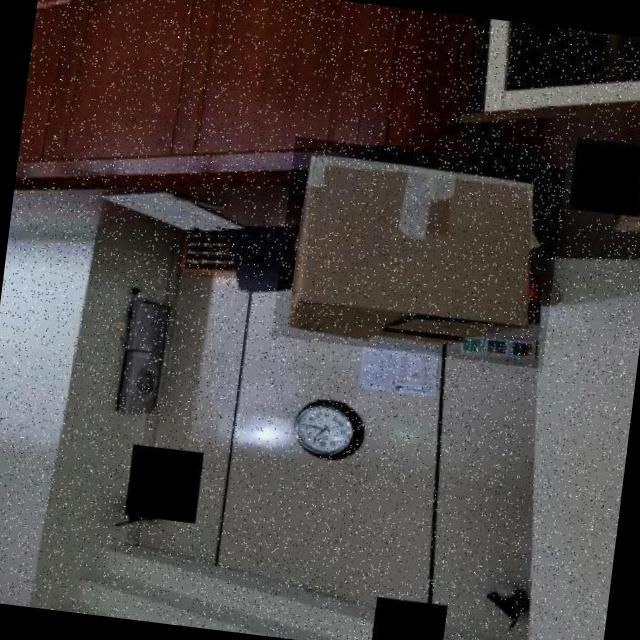box: (271, 136, 566, 369)
